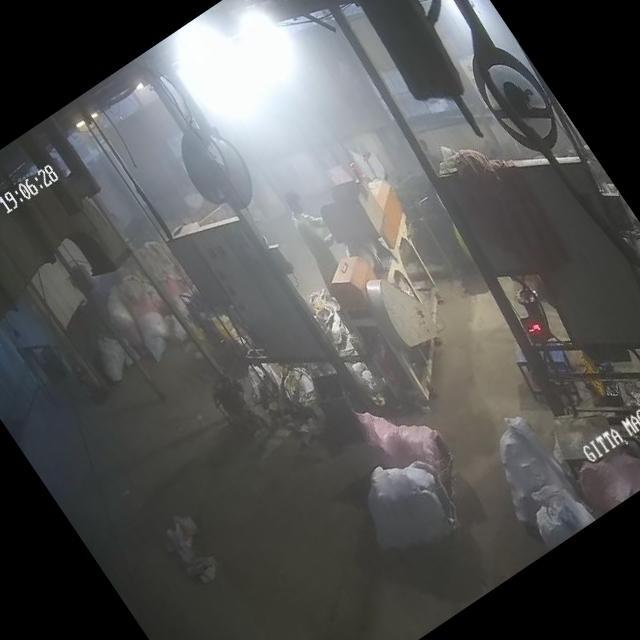person: (270, 186, 359, 302)
